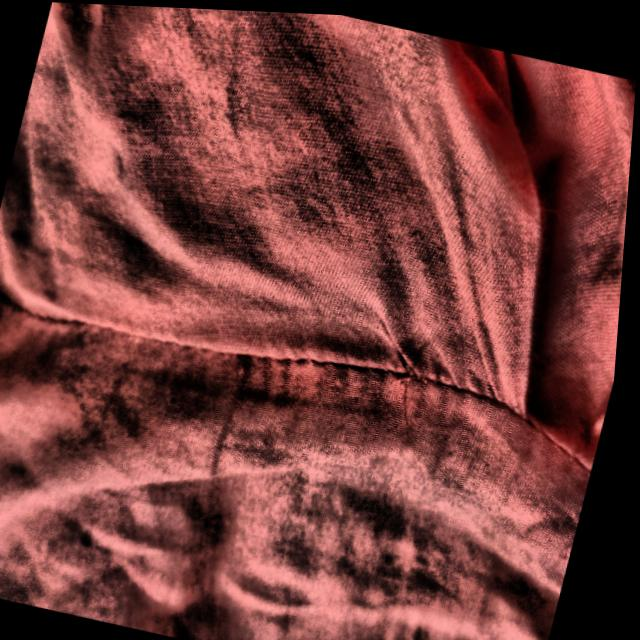Stitch: (341, 286, 521, 457)
